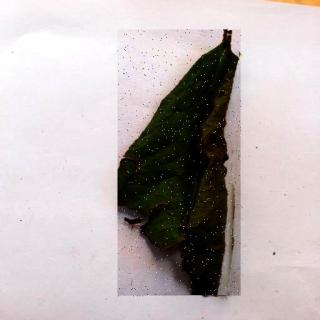Algal Leaf: (119, 31, 243, 298)
